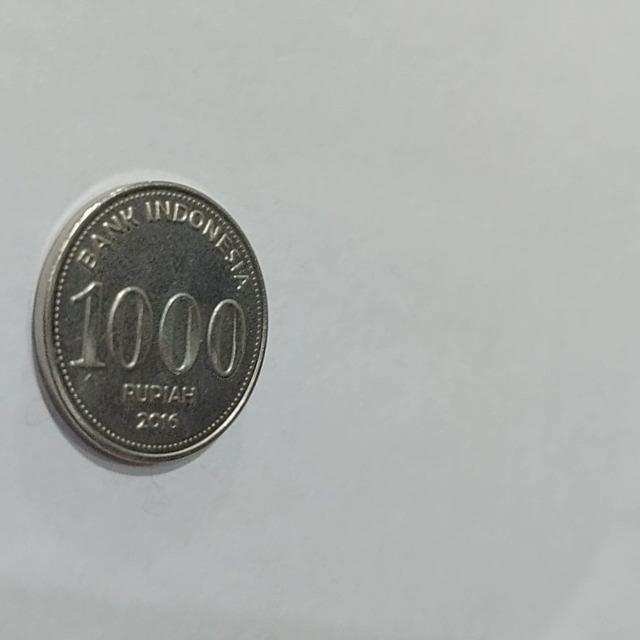Rp100: (29, 177, 270, 470)
